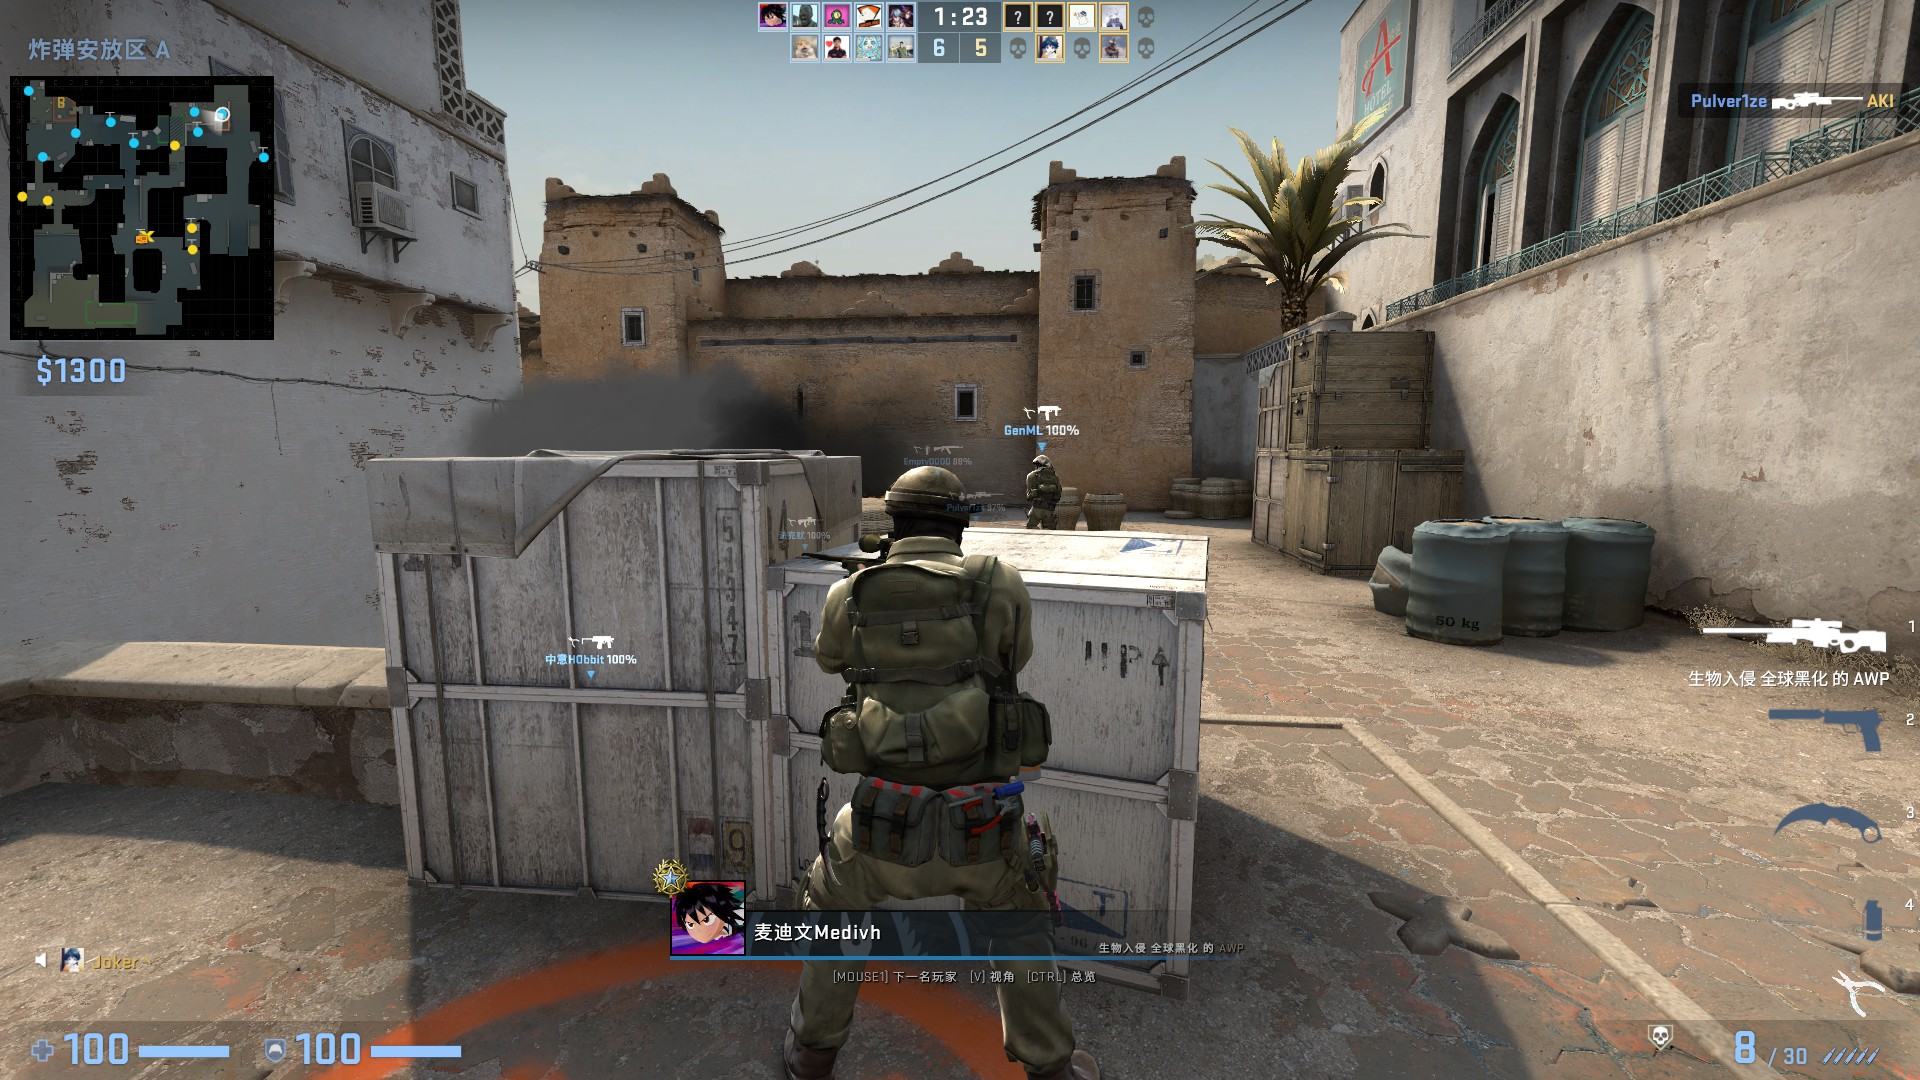head: (869, 465, 975, 543), (1030, 453, 1054, 471)
